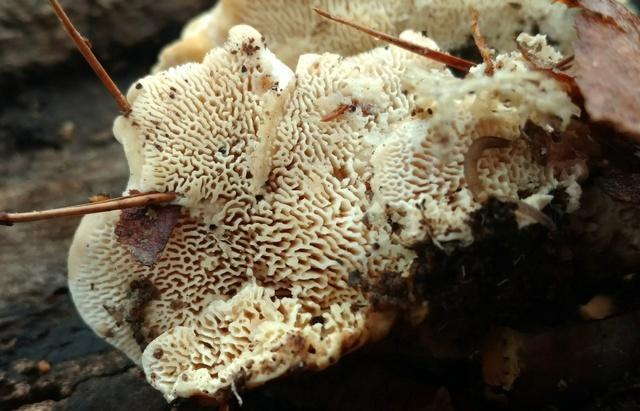Non-edible Mushroom: (64, 5, 632, 406)
